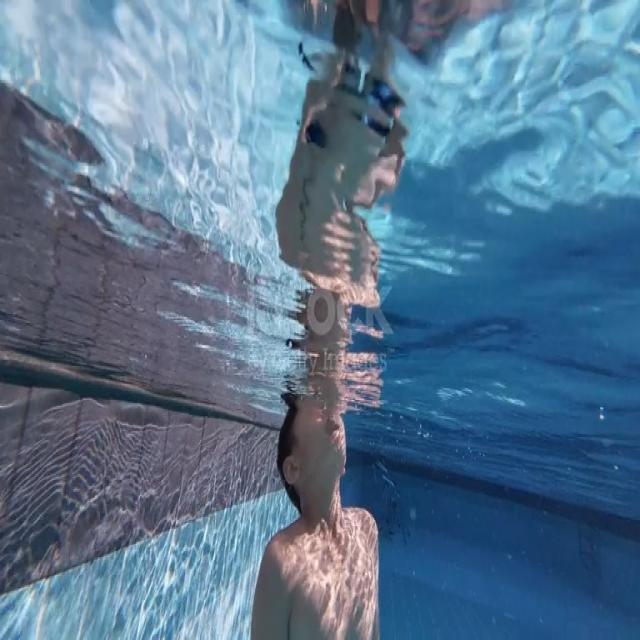Drowning: (248, 407, 380, 638)
